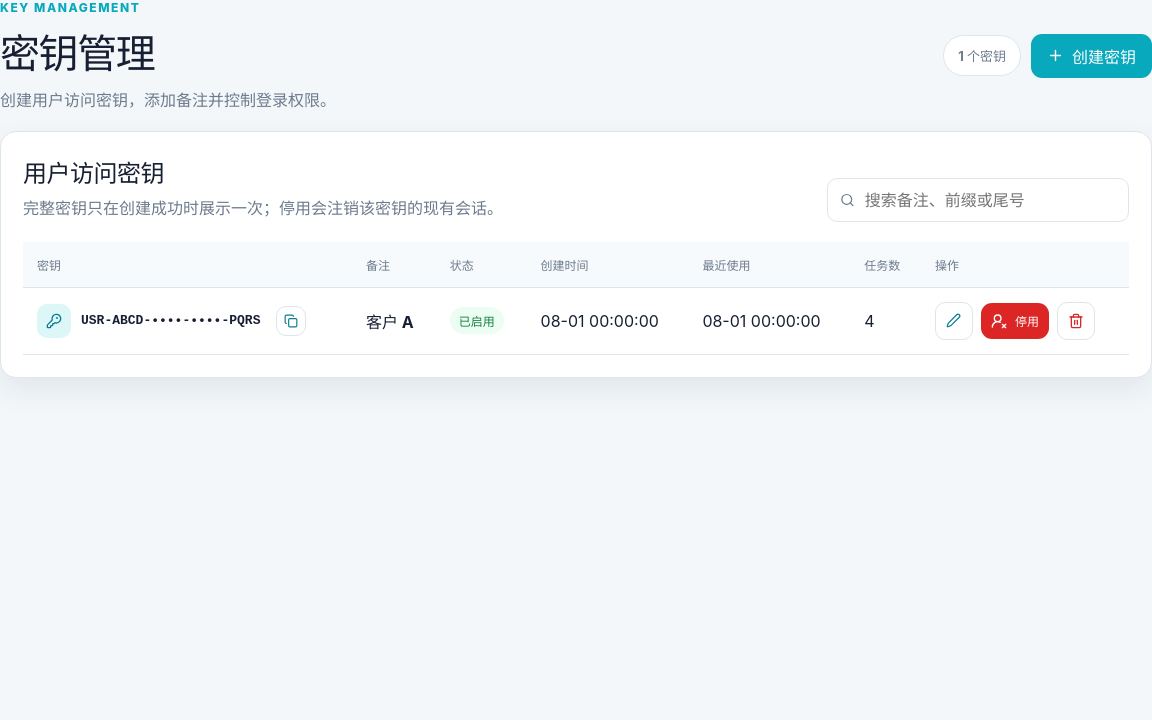
Scenario: AdminUsersPage › requires confirmation before disabling a key
The width and height of the screenshot is (1152, 720).
Click the button with aria-label "停用 客户 A" at (1015, 321), box x1=981 y1=303 x2=1049 y2=339
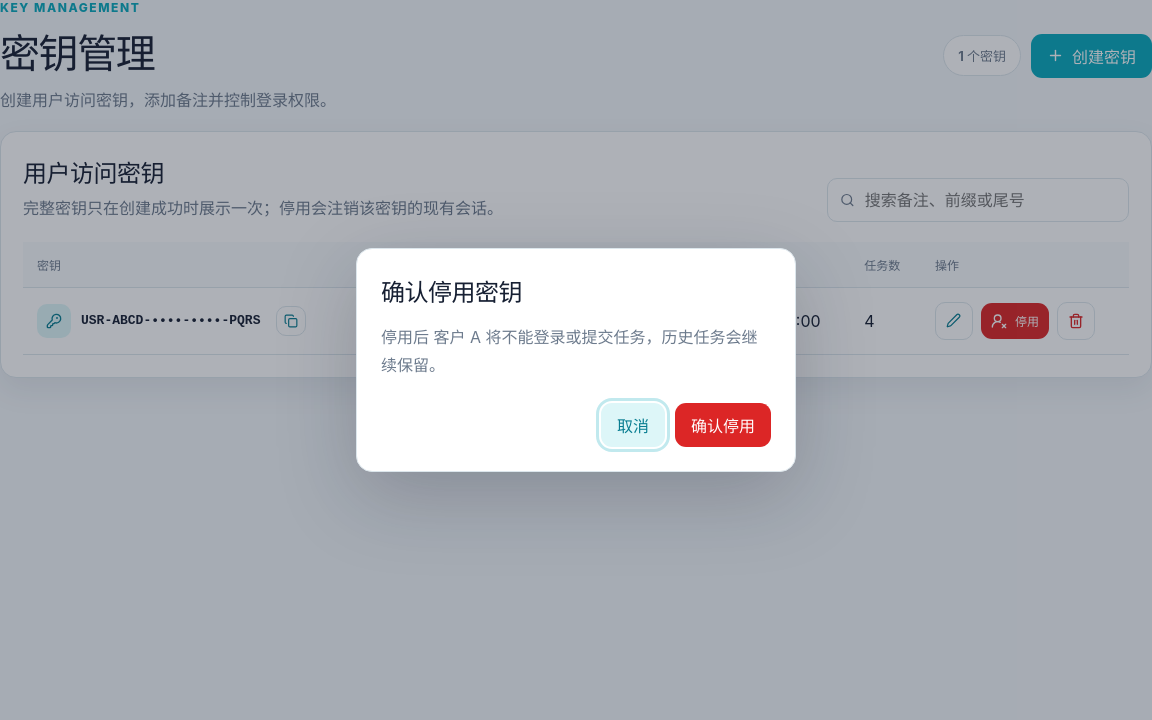
Result: the dialog is shown at x1=356 y1=248 x2=796 y2=472
Click the button "确认停用" at (723, 425), box x1=675 y1=403 x2=771 y2=447
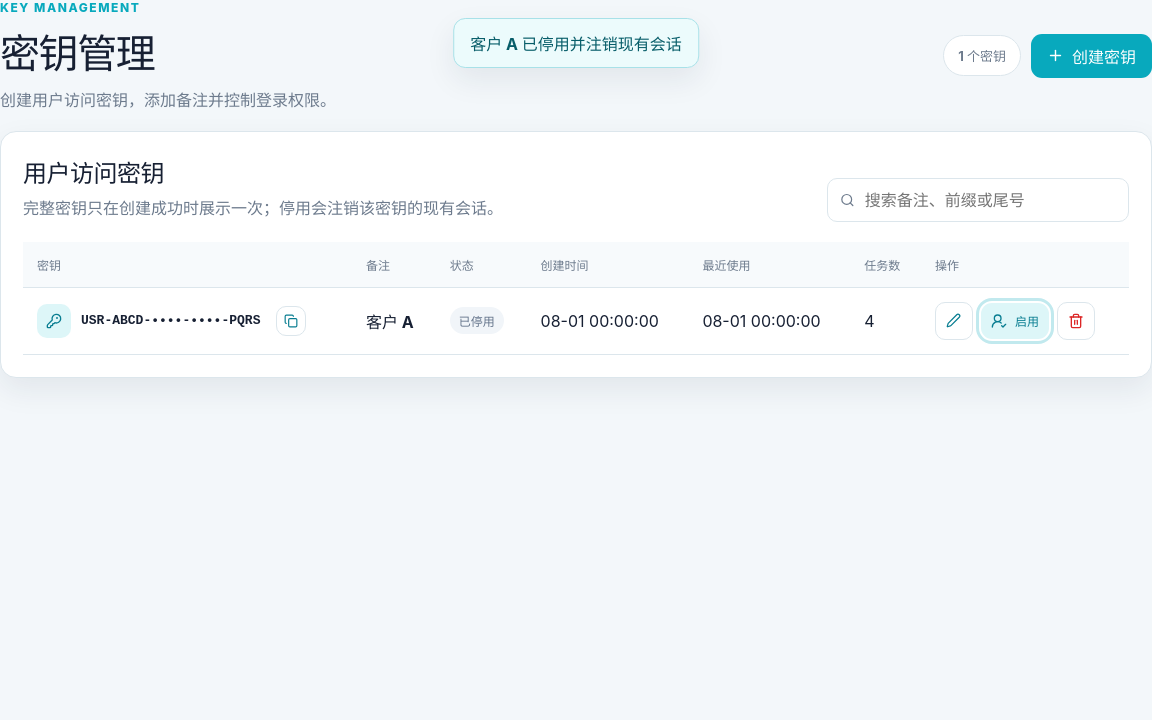
Result: the text "已停用" is shown at x1=450 y1=307 x2=504 y2=334
